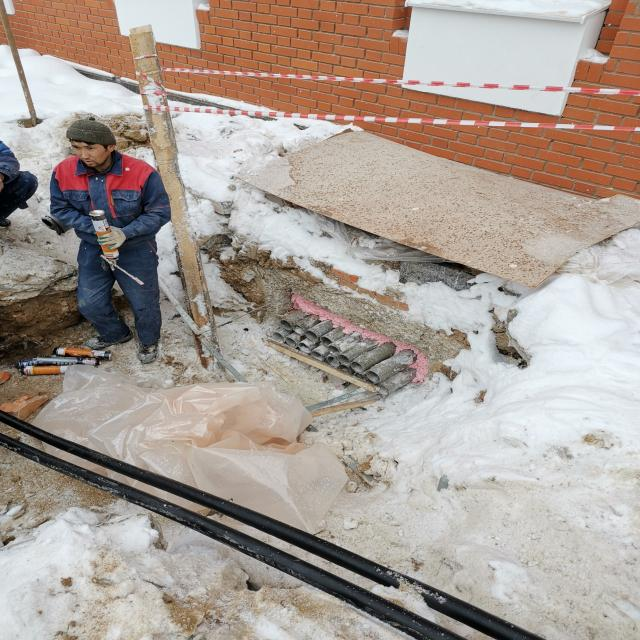NoHelmet: (68, 119, 121, 170)
